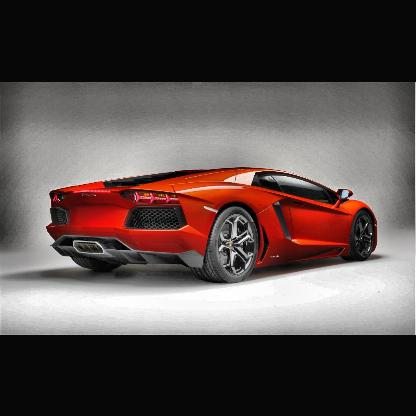Lamborghini Aventador Coupe 2012: (46, 167, 380, 285)
